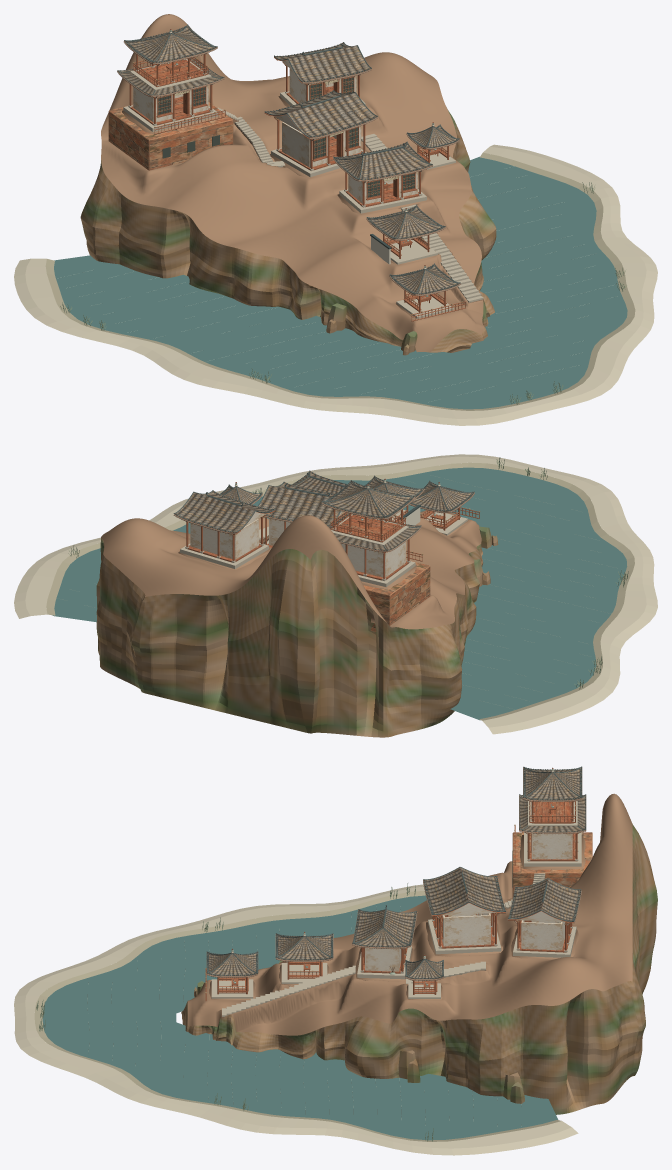
3 views of the same model, one above another, from view 1: azimuth 30°, elevation 25°; view 2: azimuth 150°, elevation 25°; view 3: azimuth 270°, elevation 25° (orthographic).
Parts seen in each view (by area): view 1: Chibi_continuous_natural_cliff_v107, chibi_v107__pond_water, chibi_v107__shore_sand, chibi_v107__painted_roof, chibi_v107__painted_cedar, chibi_v107__warm_limestone, chibi_v107__shore_silt, chibi_v107__painted_brick, chibi_v107__painted_plaster, chibi_v107__tile_ridges, chibi_v107__deep_recess, chibi_v107__ochre_cliff (+3 smaller); view 2: Chibi_continuous_natural_cliff_v107, chibi_v107__pond_water, chibi_v107__shore_sand, chibi_v107__painted_roof, chibi_v107__shore_silt, chibi_v107__painted_cedar, chibi_v107__painted_plaster, chibi_v107__tile_ridges, chibi_v107__painted_brick, chibi_v107__warm_limestone, chibi_v107__pond_ripples, chibi_v107__chibi_ink (+2 smaller); view 3: Chibi_continuous_natural_cliff_v107, chibi_v107__pond_water, chibi_v107__shore_sand, chibi_v107__painted_roof, chibi_v107__warm_limestone, chibi_v107__painted_plaster, chibi_v107__painted_cedar, chibi_v107__shore_silt, chibi_v107__tile_ridges, chibi_v107__ochre_cliff, chibi_v107__painted_brick, chibi_v107__cliff_lithology (+1 smaller).
Boxes of the visible parts, x1,y1,x2,y2 form: Chibi_continuous_natural_cliff_v107: (80,14,496,352); chibi_v107__pond_water: (54,156,627,409); chibi_v107__shore_sand: (14,144,657,425); chibi_v107__painted_roof: (118,26,458,294); chibi_v107__painted_cedar: (117,41,465,321); chibi_v107__warm_limestone: (123,31,483,318); chibi_v107__shore_silt: (45,152,635,410); chibi_v107__painted_brick: (108,102,233,170); chibi_v107__painted_plaster: (133,59,417,204); chibi_v107__tile_ridges: (117,24,460,294); chibi_v107__deep_recess: (158,76,414,197); chibi_v107__ochre_cliff: (122,96,483,319); Chibi_continuous_natural_cliff_v107: (96,510,483,737); chibi_v107__pond_water: (52,467,627,720); chibi_v107__shore_sand: (14,454,657,734); chibi_v107__painted_roof: (175,471,473,550); chibi_v107__shore_silt: (46,462,634,720); chibi_v107__painted_cedar: (173,489,479,580); chibi_v107__painted_plaster: (190,487,405,577); chibi_v107__tile_ridges: (173,470,474,550); chibi_v107__painted_brick: (363,560,430,631); chibi_v107__warm_limestone: (180,481,467,587); chibi_v107__pond_ripples: (58,475,617,709); chibi_v107__chibi_ink: (174,471,474,550); Chibi_continuous_natural_cliff_v107: (181,793,657,1114); chibi_v107__pond_water: (42,895,558,1140); chibi_v107__shore_sand: (14,884,578,1155); chibi_v107__painted_roof: (207,768,585,978); chibi_v107__warm_limestone: (211,770,581,1016); chibi_v107__painted_plaster: (365,833,572,971); chibi_v107__painted_cedar: (205,768,586,1000); chibi_v107__shore_silt: (34,891,561,1141); chibi_v107__tile_ridges: (206,766,586,978); chibi_v107__ochre_cliff: (209,835,585,1019); chibi_v107__painted_brick: (512,832,592,897); chibi_v107__cliff_lithology: (194,960,524,1103).
Bounding box in the file's own units: 80.66 × 30.2 × 80.44.
Materials: 23 (4 with a texture image).
